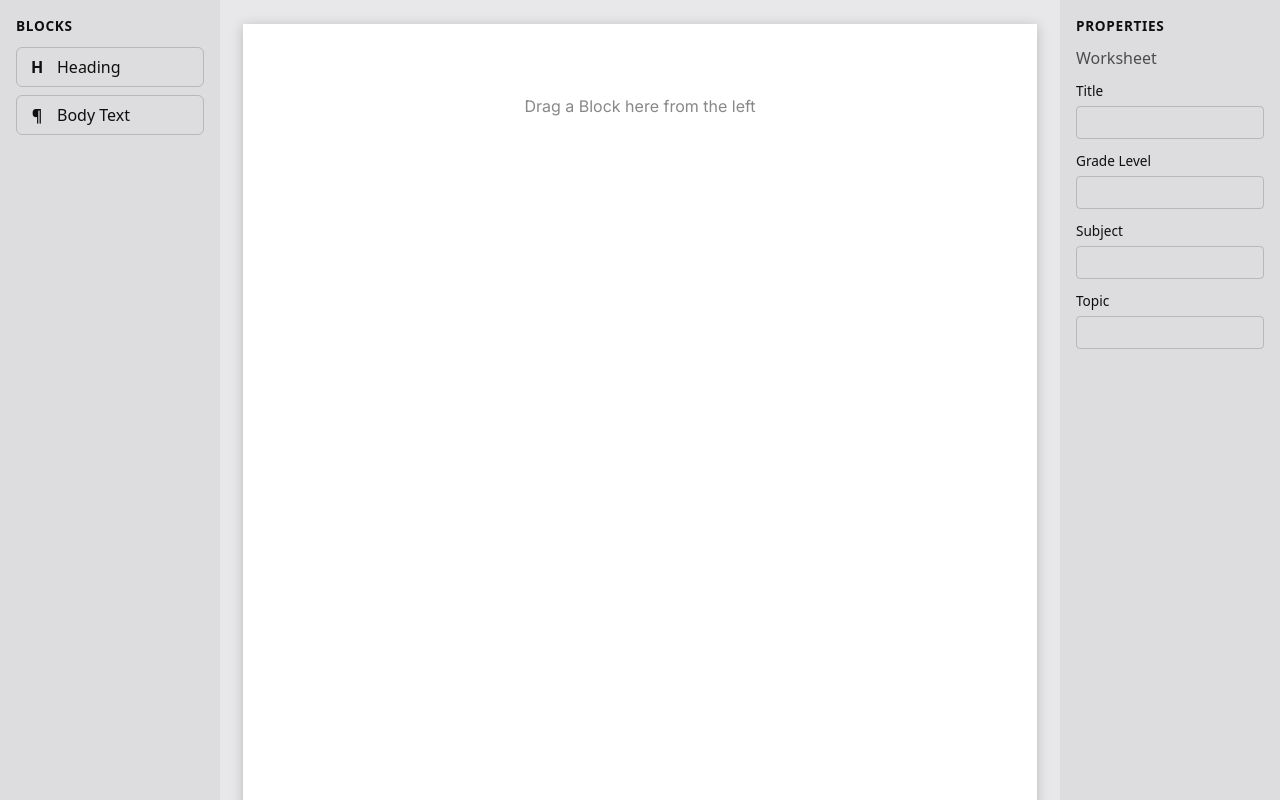
it: Worksheet Metadata in the Properties Panel › shows the selected Block’s settings instead, and the Metadata again after deselecting
In the field labelled "Title": (1170, 122) top-left (1076, 106), bottom-right (1264, 139), type "Ancient Rome"
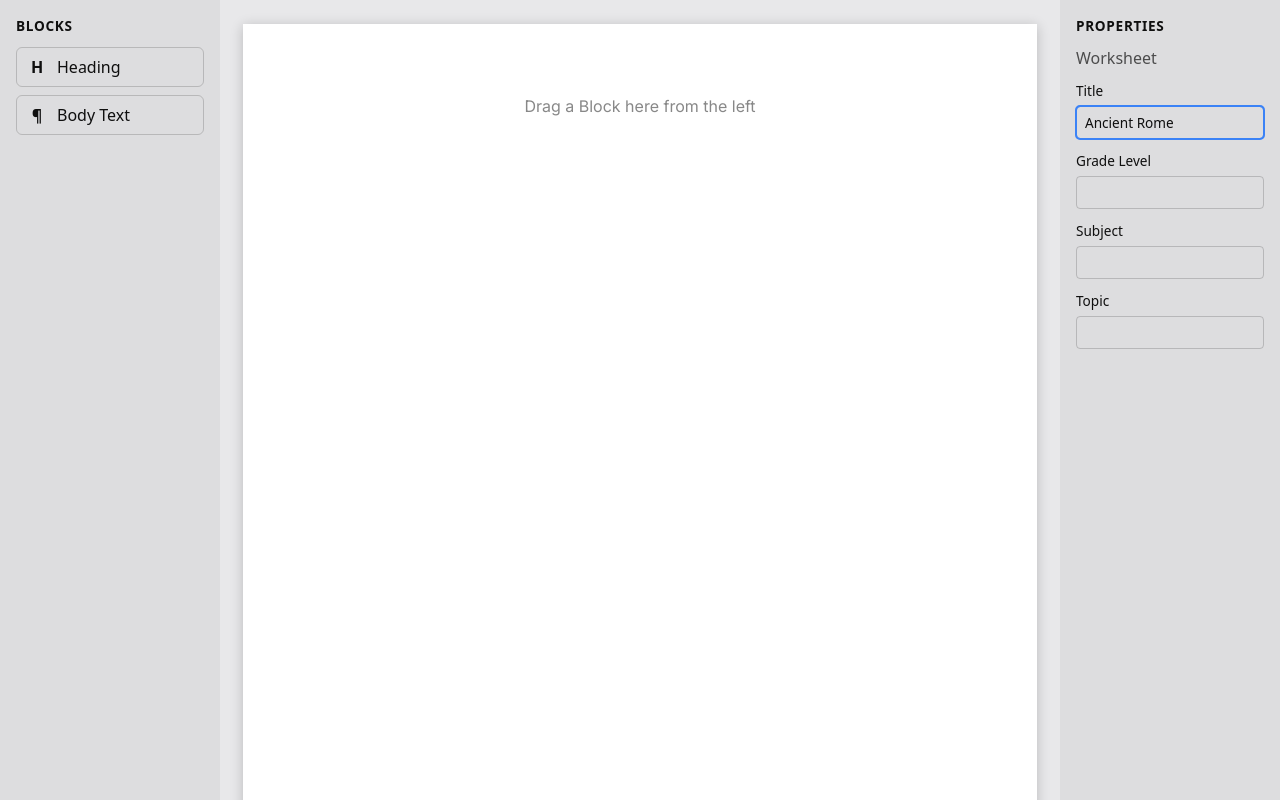
Click the button "H Heading": (110, 67) top-left (16, 47), bottom-right (204, 87)
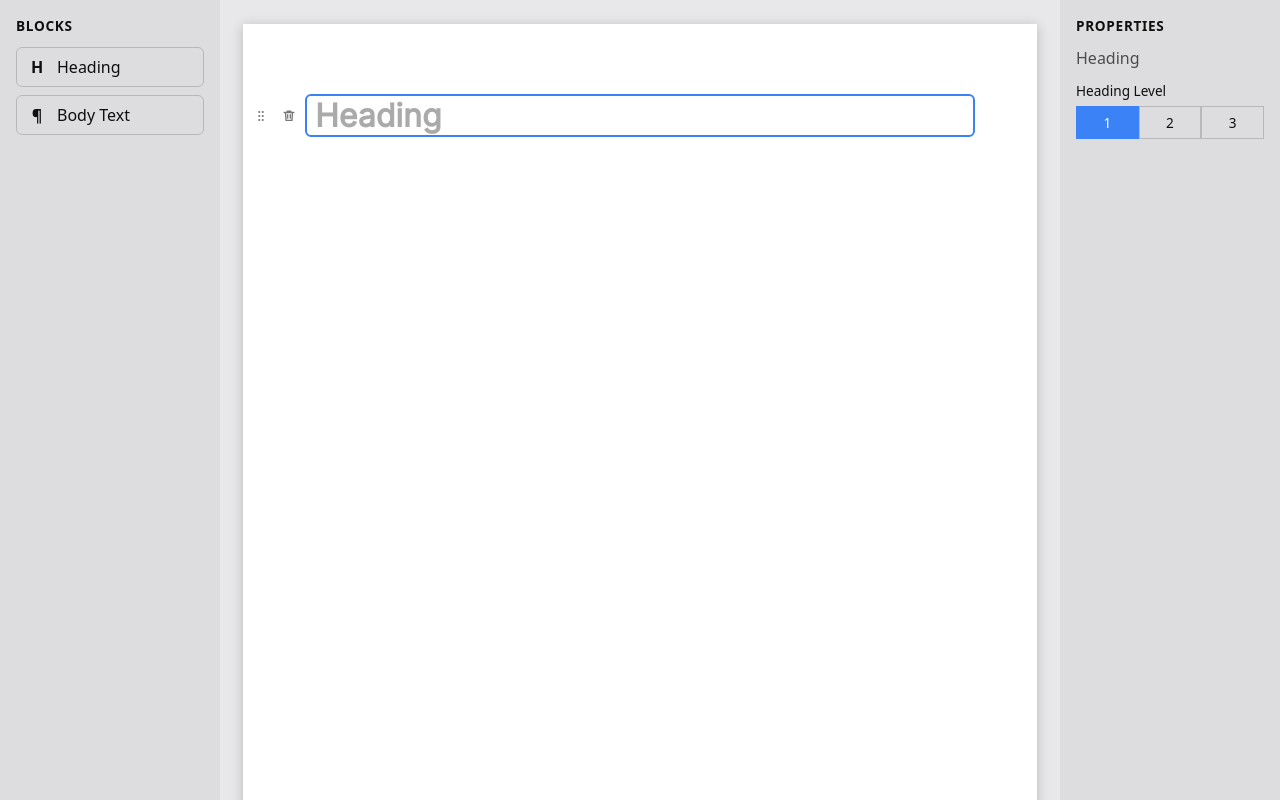
Now the label "Title" is gone
Now the element named "Properties Panel" shows "Heading Level", box top-left (1076, 81), bottom-right (1166, 100)
Click the element with class "document-area": (640, 400) top-left (220, 0), bottom-right (1060, 799)
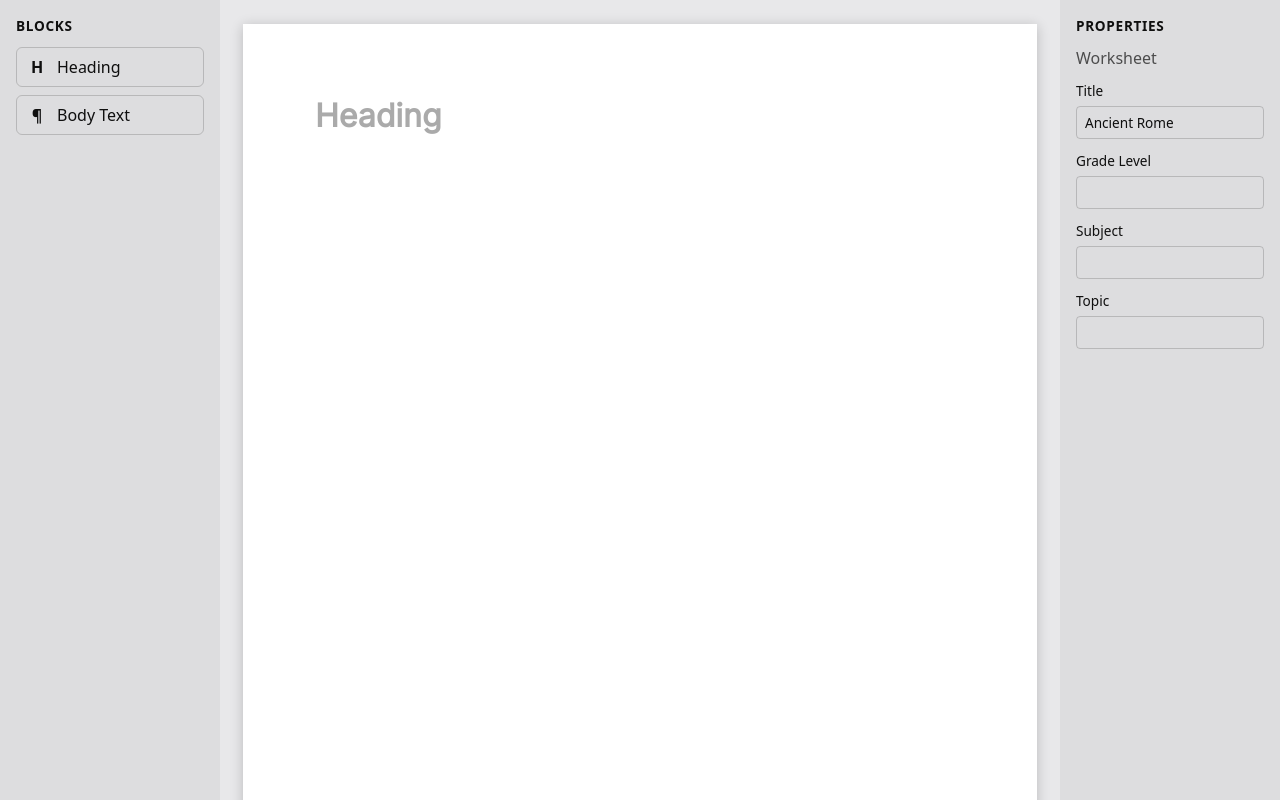
Now the field labelled "Title" holds "Ancient Rome", box top-left (1076, 106), bottom-right (1264, 139)
